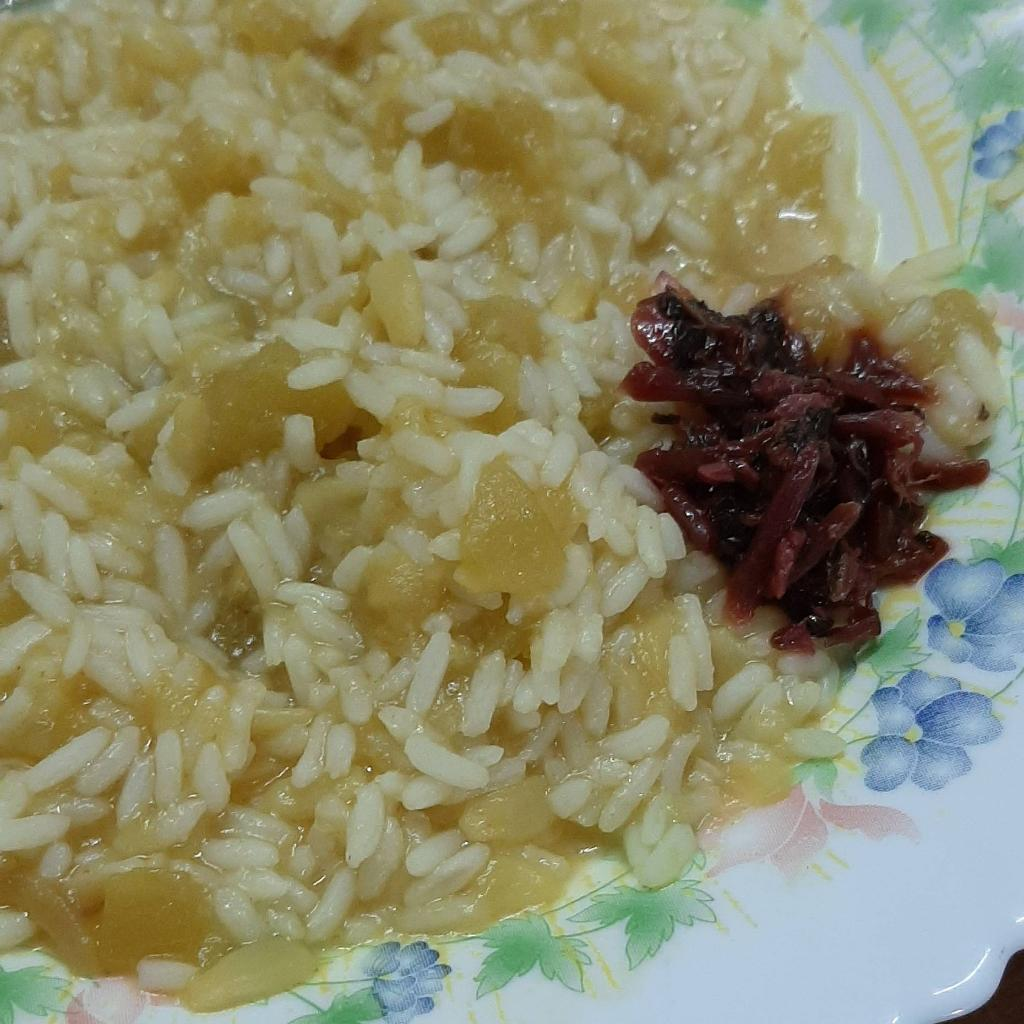rice: (0, 4, 1004, 1006)
shak: (626, 286, 958, 640)
